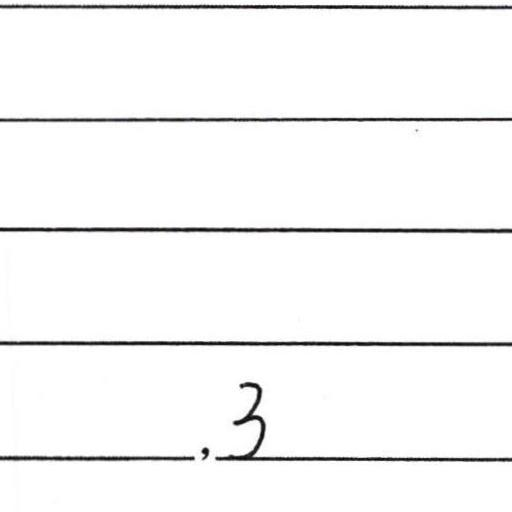ans: (222, 374, 270, 459)
